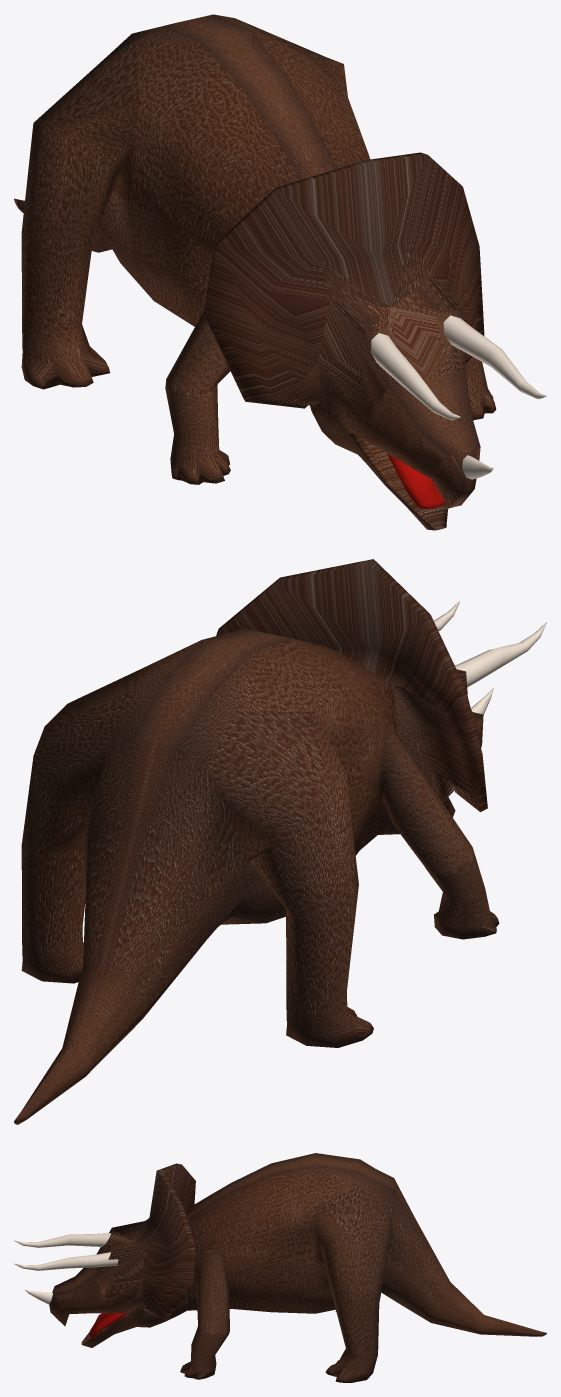
File: tricera.obj
The picture shows the model from 3 angles, top to bottom: view 1: azimuth 30°, elevation 25°; view 2: azimuth 150°, elevation 25°; view 3: azimuth 270°, elevation 25°; orthographic projection. The views are drawn at different scales.
Parts seen in each view (by area): view 1: Box003, Cone03, Cone004, Capsule01; view 2: Box003, Cone004; view 3: Box003, Cone03, Cone004, Capsule01.
Part boxes in pixels (bbox=[...]): Box003: bbox=[14, 14, 496, 530]; Cone03: bbox=[443, 315, 546, 399]; Cone004: bbox=[370, 325, 460, 420]; Capsule01: bbox=[387, 453, 445, 509]; Box003: bbox=[14, 559, 499, 1124]; Cone004: bbox=[455, 622, 546, 686]; Box003: bbox=[49, 1153, 546, 1382]; Cone03: bbox=[14, 1252, 118, 1270]; Cone004: bbox=[14, 1233, 110, 1247]; Capsule01: bbox=[89, 1313, 126, 1338].
Size of the model in its own units: 26.87 by 26.09 by 67.4.
4 materials, 3 textured.
